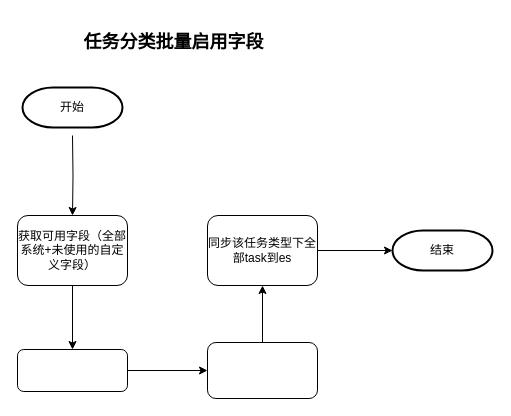
Image size: 511x416. Some labels were removed from this diagram. Here are the shapes that lost their labels. From the top down, the centre of each, then its label:
the point at 72,370: 校验field_key是否合法，是否当前项目字段
the point at 262,370: 构造FieldRelList，批量插入
